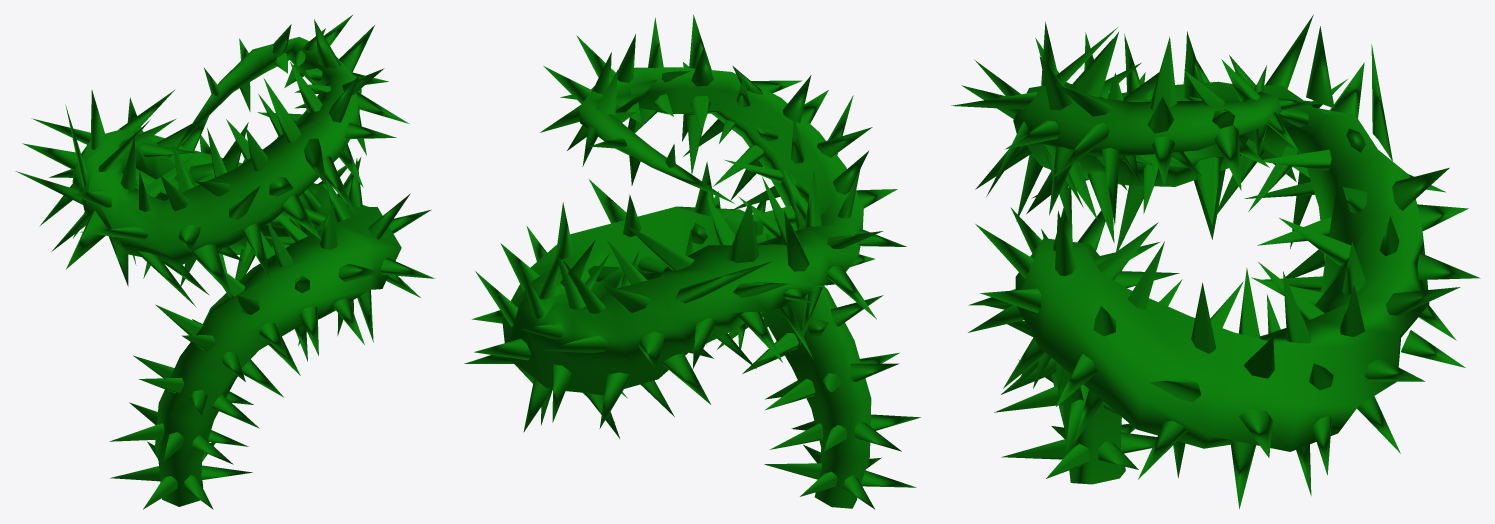
File: Mesh_Espina_v01.fbx
The picture shows the model from 3 angles, left to right: view 1: azimuth 30°, elevation 25°; view 2: azimuth 150°, elevation 25°; view 3: azimuth 270°, elevation 25°; orthographic projection. The views are drawn at different scales.
Parts seen in each view (by area): view 1: Mesh_Tallo_V1, Mesh_Espinas_V1_124, Mesh_Espinas_V1_112, Mesh_Espinas_V1_140, Mesh_Espinas_V1_136, Mesh_Espinas_V1_130, Mesh_Espinas_V1_159, Mesh_Espinas_V1_141, Mesh_Espinas_V1_101, Mesh_Espinas_V1_118, Mesh_Espinas_V1_142, Mesh_Espinas_V1_117 (+16 smaller); view 2: Mesh_Tallo_V1, Mesh_Espinas_V1_100, Mesh_Espinas_V1_95, Mesh_Espinas_V1_94, Mesh_Espinas_V1_85, Mesh_Espinas_V1_106, Mesh_Espinas_V1_79, Mesh_Espinas_V1_112, Mesh_Espinas_V1_67, Mesh_Espinas_V1_84, Mesh_Espinas_V1_102, Mesh_Espinas_V1_73 (+29 smaller); view 3: Mesh_Tallo_V1, Mesh_Espinas_V1_100, Mesh_Espinas_V1_114, Mesh_Espinas_V1_89, Mesh_Espinas_V1_82, Mesh_Espinas_V1_159, Mesh_Espinas_V1_78, Mesh_Espinas_V1_146, Mesh_Espinas_V1_66, Mesh_Espinas_V1_49, Mesh_Espinas_V1_95, Mesh_Espinas_V1_167 (+44 smaller).
Boxes of the visible parts, box(x1,y1,x2,y2) form: Mesh_Tallo_V1: box(72, 37, 401, 506); Mesh_Espinas_V1_124: box(191, 244, 231, 295); Mesh_Espinas_V1_112: box(66, 210, 107, 269); Mesh_Espinas_V1_140: box(263, 78, 300, 142); Mesh_Espinas_V1_136: box(281, 194, 321, 240); Mesh_Espinas_V1_130: box(242, 223, 269, 279); Mesh_Espinas_V1_159: box(314, 19, 341, 68); Mesh_Espinas_V1_141: box(303, 138, 326, 185); Mesh_Espinas_V1_101: box(22, 143, 77, 170); Mesh_Espinas_V1_118: box(137, 251, 196, 307); Mesh_Espinas_V1_142: box(323, 156, 355, 214); Mesh_Espinas_V1_117: box(80, 226, 148, 240); Mesh_Tallo_V1: box(502, 67, 871, 508); Mesh_Espinas_V1_100: box(727, 199, 758, 262); Mesh_Espinas_V1_95: box(675, 261, 772, 303); Mesh_Espinas_V1_94: box(626, 225, 694, 270); Mesh_Espinas_V1_85: box(662, 353, 710, 404); Mesh_Espinas_V1_106: box(784, 210, 809, 271); Mesh_Espinas_V1_79: box(599, 372, 629, 428); Mesh_Espinas_V1_112: box(826, 265, 876, 319); Mesh_Espinas_V1_67: box(474, 338, 531, 360); Mesh_Espinas_V1_84: box(543, 335, 607, 353); Mesh_Espinas_V1_102: box(739, 311, 782, 362); Mesh_Espinas_V1_73: box(552, 364, 571, 422); Mesh_Tallo_V1: box(1013, 81, 1429, 484); Mesh_Espinas_V1_100: box(1306, 26, 1334, 108); Mesh_Espinas_V1_114: box(1194, 157, 1221, 225); Mesh_Espinas_V1_89: box(1392, 167, 1449, 210); Mesh_Espinas_V1_82: box(1279, 218, 1351, 265); Mesh_Espinas_V1_159: box(1149, 36, 1176, 111); Mesh_Espinas_V1_78: box(1385, 287, 1460, 315); Mesh_Espinas_V1_146: box(1074, 32, 1118, 97); Mesh_Espinas_V1_66: box(1283, 271, 1310, 343); Mesh_Espinas_V1_49: box(1191, 282, 1215, 353); Mesh_Espinas_V1_95: box(1371, 44, 1392, 161); Mesh_Espinas_V1_167: box(1214, 124, 1241, 190).
Bounding box in the file's own units: 2253 × 2512 × 2203.
